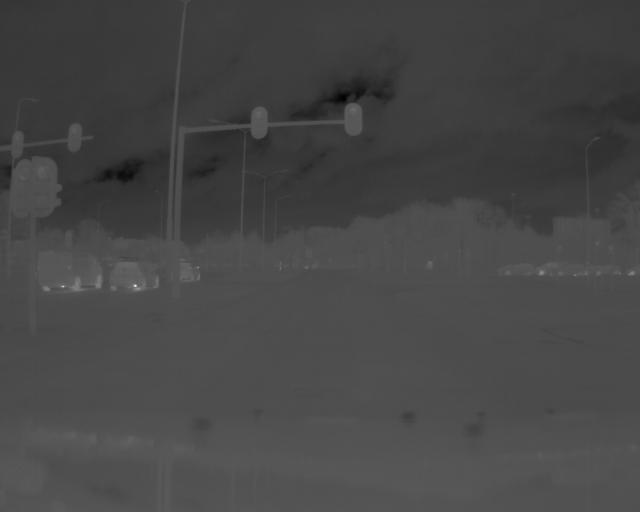car: (36, 247, 105, 294), (109, 259, 163, 291)
